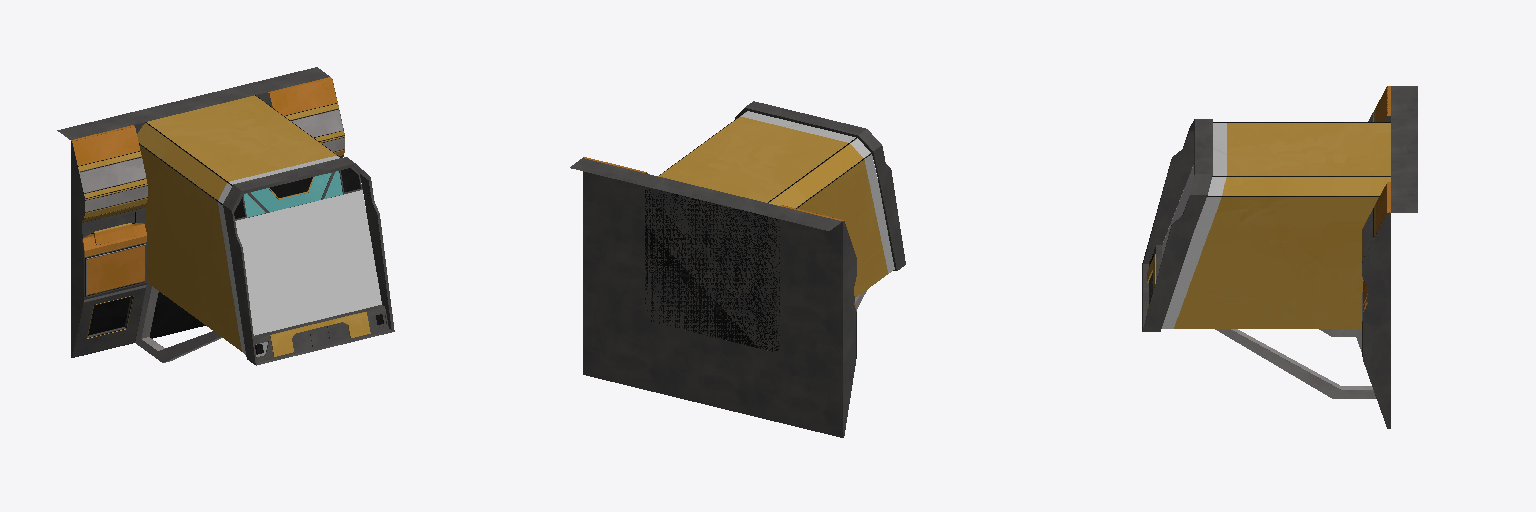
The picture shows the model from 3 angles: view 1: azimuth 30°, elevation 25°; view 2: azimuth 150°, elevation 25°; view 3: azimuth 270°, elevation 25°; orthographic projection.
Parts seen in each view (by area): view 1: Cube.010, Plane.007, Cube.012, Cube.011, Plane.006; view 2: Plane.006, Cube.010, Cube.011, Plane.007; view 3: Cube.010, Cube.011, Plane.007, Plane.006.
Part boxes in pixels (x1,y1,x2,y2): Cube.010: (135, 95, 362, 362); Plane.007: (71, 77, 344, 357); Cube.012: (235, 190, 381, 335); Cube.011: (223, 157, 394, 365); Plane.006: (57, 67, 329, 139); Plane.006: (570, 158, 842, 437); Cube.010: (645, 111, 894, 351); Cube.011: (735, 101, 905, 270); Plane.007: (583, 157, 856, 437); Cube.010: (1162, 122, 1390, 398); Cube.011: (1142, 119, 1212, 331); Plane.007: (1362, 86, 1390, 428); Plane.006: (1391, 86, 1417, 212).
Size of the model in its own units: 3.97 by 3.2 by 3.64.
11 materials, 10 textured.